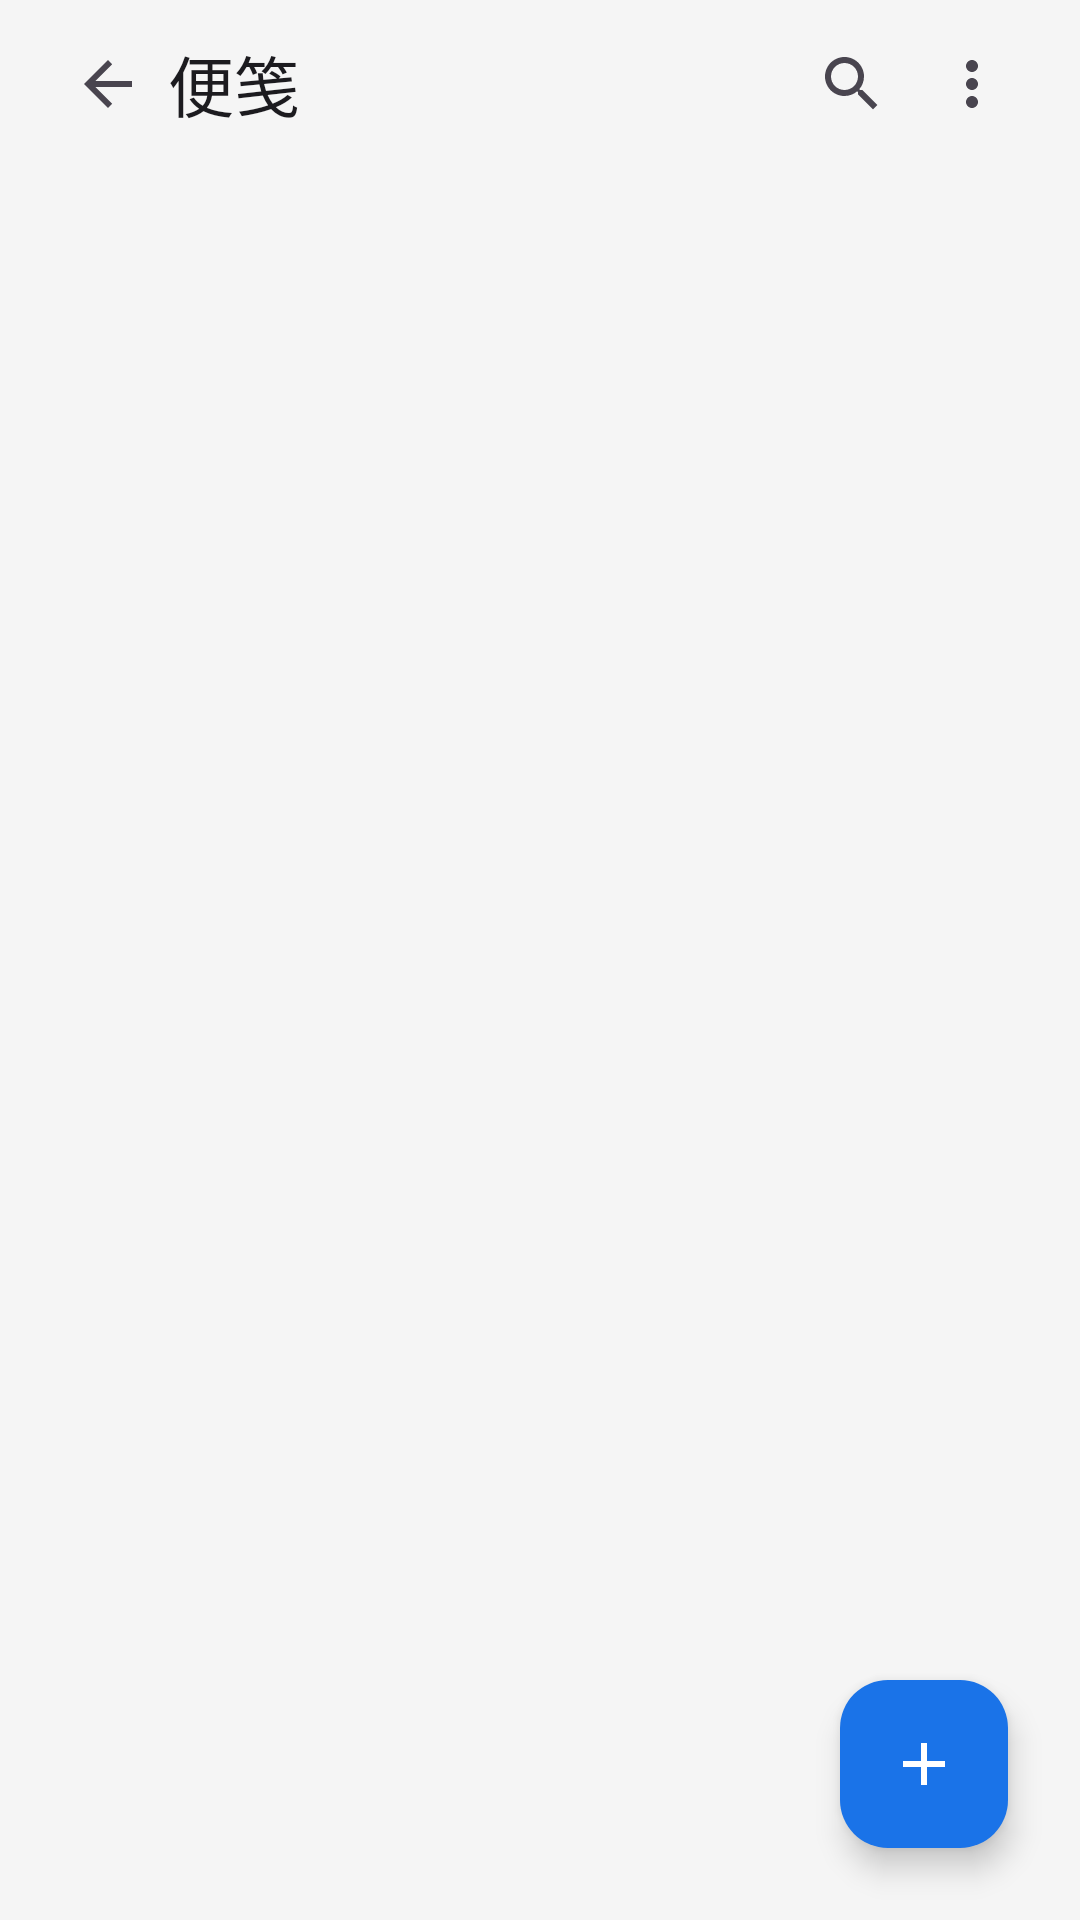

Icons on this 1080*1920 Android screen, each with the point to tap as point (x, y):
More: point (972, 84)
Search: point (851, 83)
新建笔记: point (924, 1764)
返回: point (108, 84)
